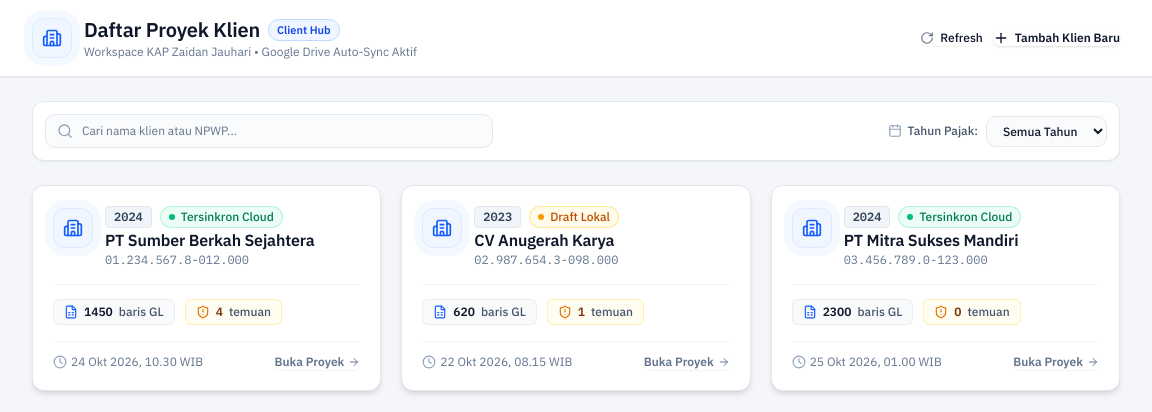
ClientHub Dashboard Component › filters project list by tax year dropdown
Note: Select year 2023
Select "2023" in the dropdown named "Filter Tahun Pajak". click: (1046, 131)
box: [986,116,1107,146]
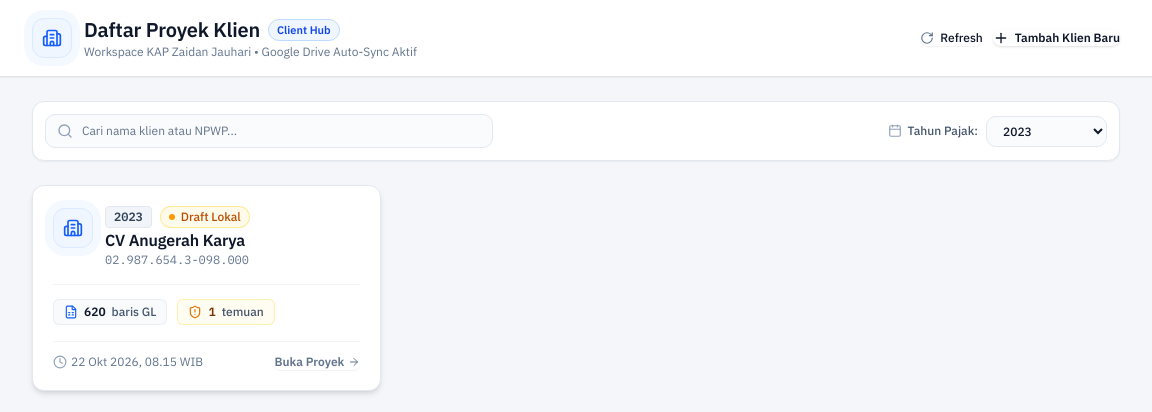
expect the heading "CV Anugerah Karya" is shown: met, box [105,230,245,250]
expect the heading "PT Sumber Berkah Sejahtera" is gone: met
expect the heading "PT Mitra Sukses Mandiri" is gone: met
Note: Select year 2024
Select "2024" in the dropdown named "Filter Tahun Pajak". click: (1046, 131)
box: [986,116,1107,146]
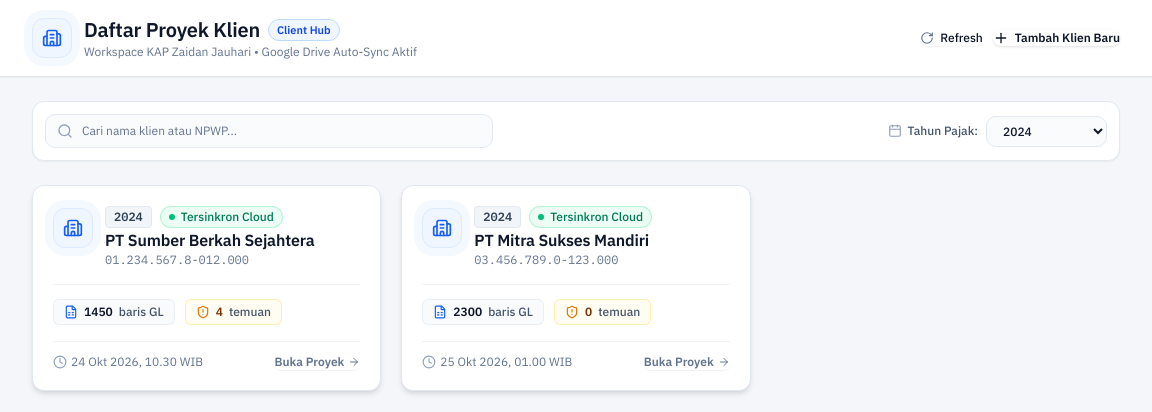
expect the heading "PT Sumber Berkah Sejahtera" is shown: met, box [105,228,348,252]
expect the heading "PT Mitra Sukses Mandiri" is shown: met, box [474,230,649,250]
expect the heading "CV Anugerah Karya" is gone: met
Note: Select all years
Select "Semua Tahun" in the dropdown named "Filter Tahun Pajak". click: (1046, 131)
box: [986,116,1107,146]
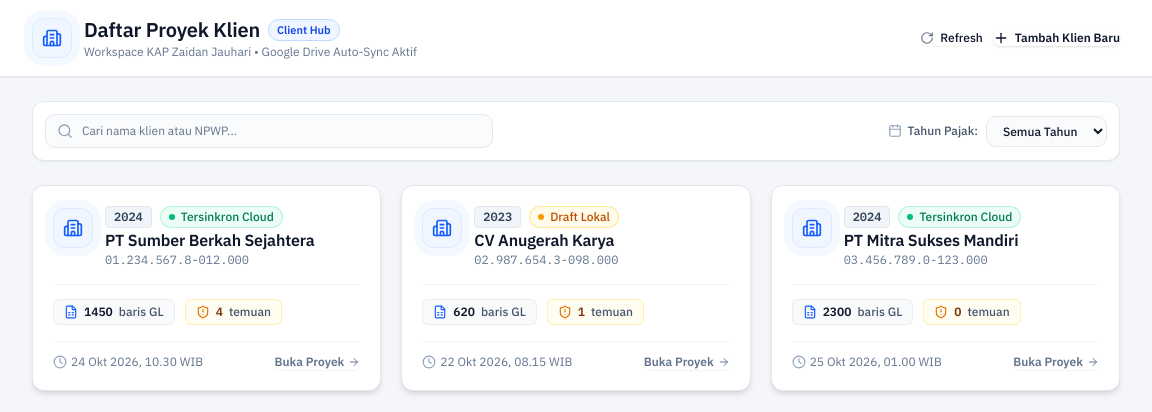
expect the heading "PT Sumber Berkah Sejahtera" is shown: met, box [105,228,348,252]
expect the heading "PT Mitra Sukses Mandiri" is shown: met, box [844,230,1018,250]
expect the heading "CV Anugerah Karya" is shown: met, box [474,230,614,250]
